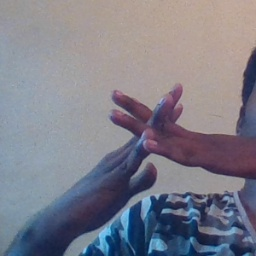W: (89, 75, 214, 199)
